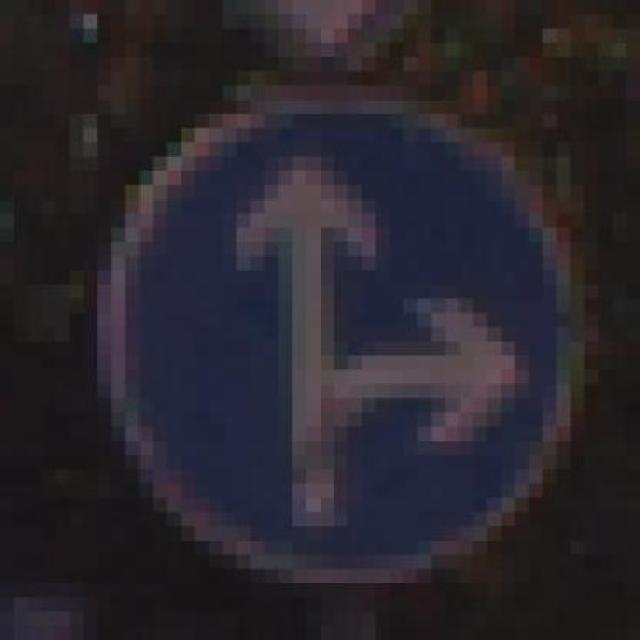Go Straight or Turn Right: (83, 85, 599, 583)
